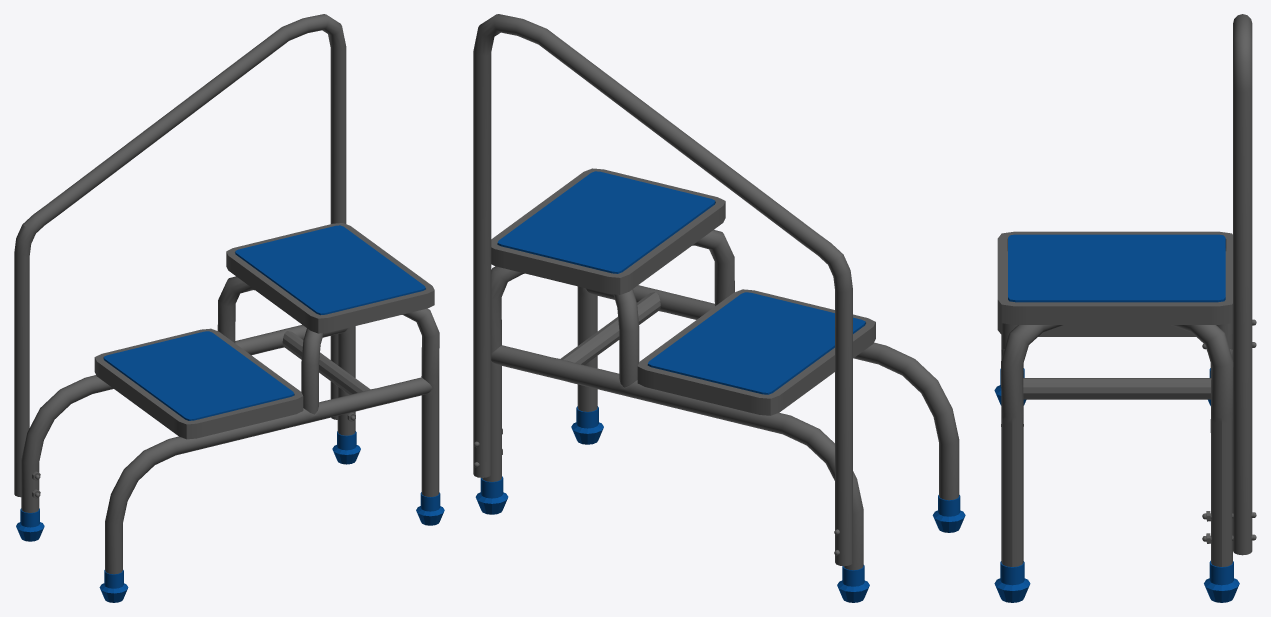
The model's file is stepStool.glb.
3 renders of one model, left to right at view 1: azimuth 30°, elevation 25°; view 2: azimuth 150°, elevation 25°; view 3: azimuth 270°, elevation 25°, orthographic. The views are drawn at different scales.
Visible parts, largest first — view 1: 2 Step Stool; view 2: 2 Step Stool; view 3: 2 Step Stool.
Part boxes in pixels (x1,y1,x2,y2): 2 Step Stool: (14, 14, 444, 602); 2 Step Stool: (473, 14, 965, 602); 2 Step Stool: (994, 14, 1256, 602).
Size of the model in its own units: 1.01 by 1.25 by 0.5368.
